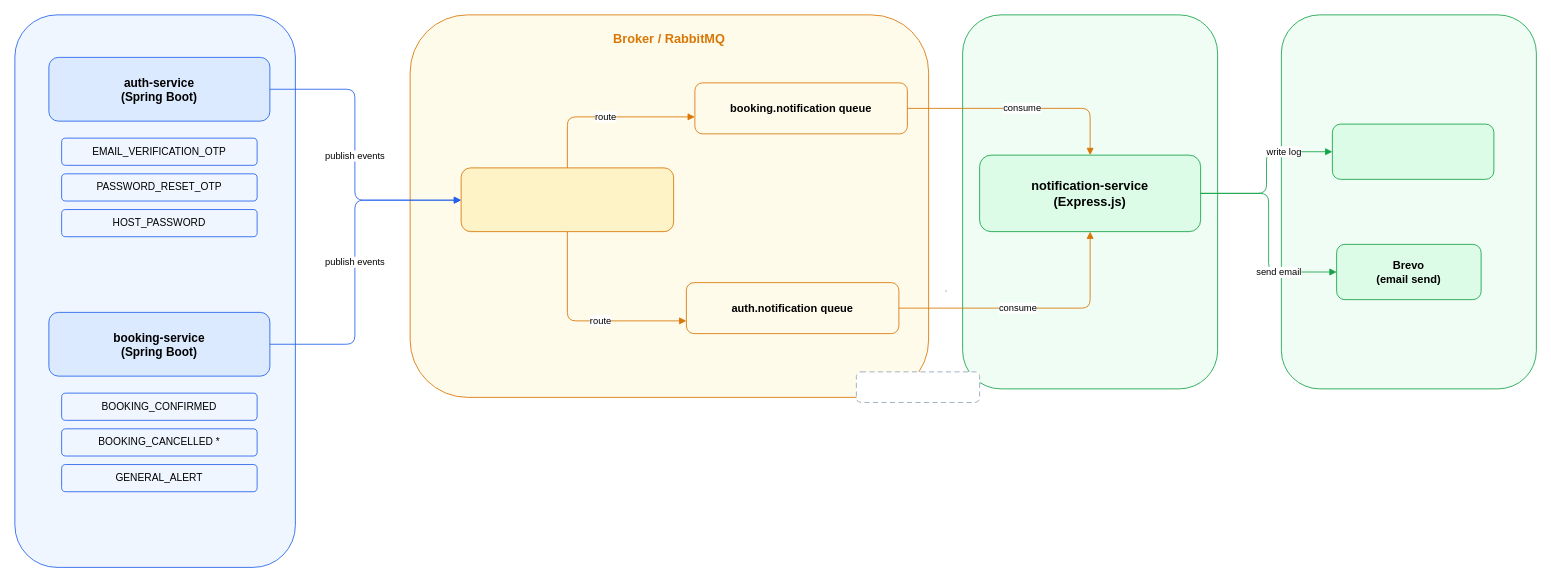
Some shapes in this 1551 by 582 pixel diagram are drawn without their labels. The box of each missing label's shape, as (x1, y1, x2, y2) in pixels:
async · decoupled: (856, 371, 980, 402)
Consumer: (962, 14, 1218, 389)
MongoDB (notification log): (1332, 123, 1494, 179)
Outputs: (1281, 14, 1536, 389)
Producers: (14, 14, 295, 567)
Topic Exchange: (460, 167, 674, 232)
